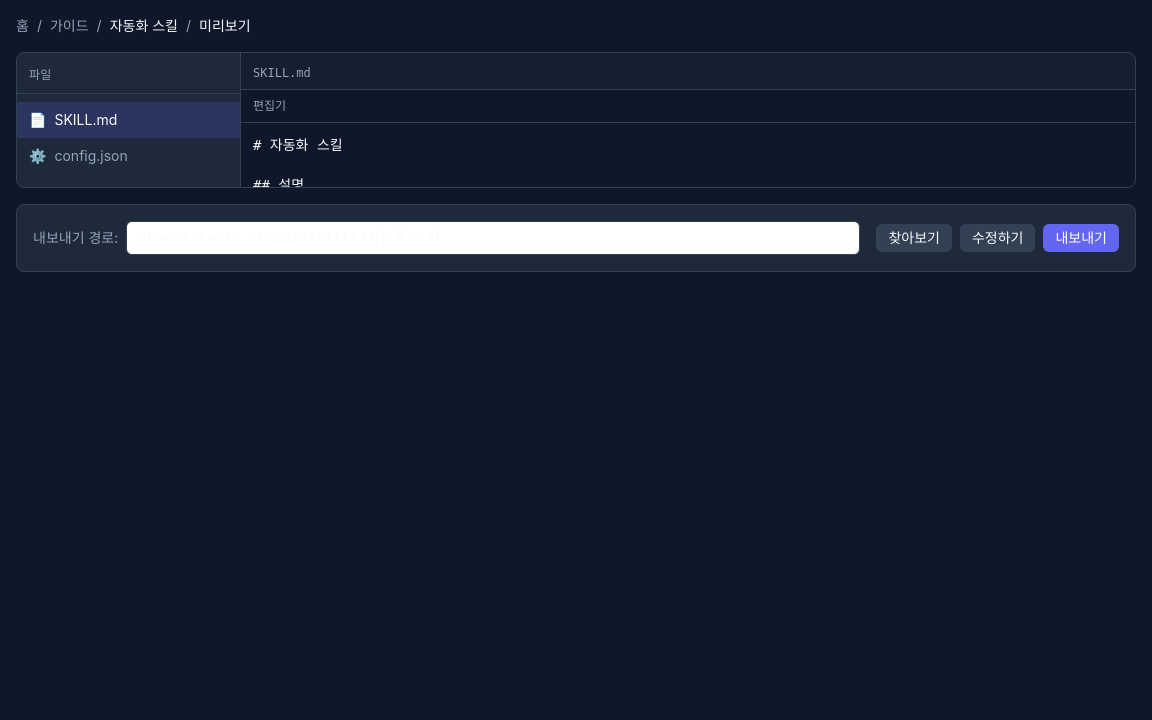
Preview Integration › 시나리오 3: 내보내기 플로우 › 내보내기 버튼 클릭 → 모든 파일 내보내기 → 상태 업데이트 → 성공 메시지 → 워크스페이스 이동 옵션
This screenshot has width=1152, height=720.
Note: Click export
Click the button "내보내기" at (1081, 238), box x1=1044 y1=224 x2=1119 y2=252
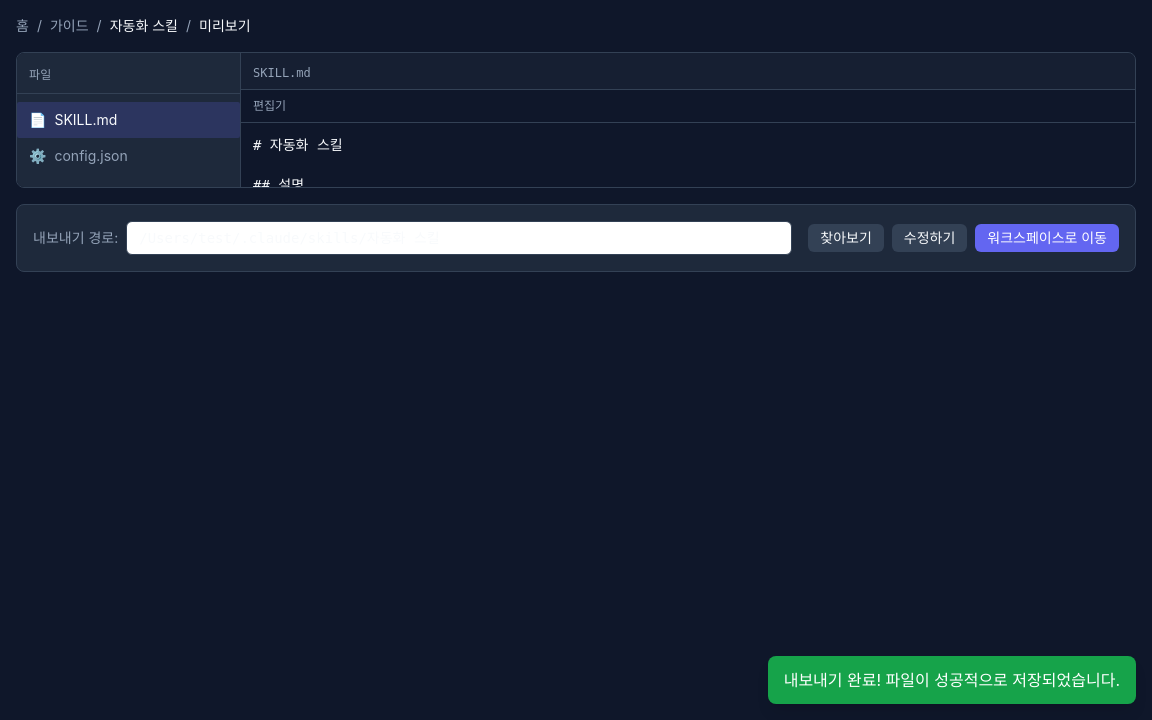
Now the text "내보내기 완료! 파일이 성공적으로 저장되었습니다." is shown, box x1=768 y1=656 x2=1136 y2=704
Now the button "워크스페이스로 이동" is shown, box x1=975 y1=224 x2=1119 y2=252
